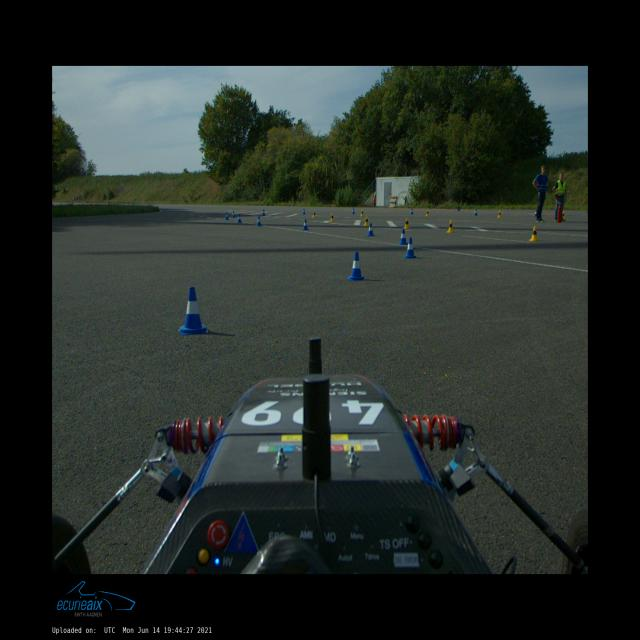blue_cone: (179, 287, 209, 335), (347, 252, 366, 280), (404, 238, 417, 258), (399, 228, 408, 244), (367, 223, 375, 236), (302, 219, 309, 230), (256, 216, 262, 226), (237, 215, 242, 222), (225, 212, 229, 220), (262, 209, 266, 216), (232, 211, 236, 218), (302, 208, 306, 214), (474, 209, 478, 215), (410, 208, 413, 214), (534, 210, 537, 216), (352, 209, 355, 214)
yellow_cone: (529, 226, 539, 241), (446, 220, 454, 233), (404, 218, 410, 229), (364, 216, 369, 226), (497, 210, 502, 218), (562, 212, 566, 220), (330, 214, 334, 222), (312, 211, 316, 218), (360, 210, 364, 216), (426, 210, 430, 216)
